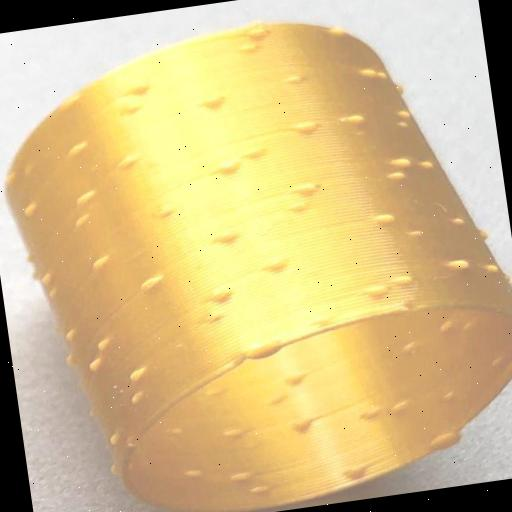blobs: (236, 139, 274, 171), (207, 154, 241, 184), (381, 394, 414, 421), (288, 179, 328, 201), (142, 269, 172, 297), (72, 180, 104, 206), (192, 89, 226, 113), (259, 254, 296, 276), (56, 90, 88, 115), (356, 281, 390, 304), (436, 252, 475, 272), (84, 252, 119, 274), (340, 460, 372, 484), (287, 409, 314, 437), (62, 141, 92, 166), (280, 368, 314, 390), (430, 428, 462, 450), (210, 226, 240, 249), (387, 108, 418, 130), (122, 364, 156, 384), (204, 286, 232, 310), (198, 382, 228, 404), (276, 69, 307, 89), (354, 62, 385, 82), (469, 260, 500, 280), (292, 118, 320, 140), (111, 153, 139, 175), (341, 109, 370, 130), (395, 336, 420, 360), (354, 403, 382, 424), (128, 78, 154, 100), (410, 156, 436, 178), (150, 202, 178, 222), (240, 482, 268, 502), (372, 208, 398, 229), (386, 152, 416, 170), (71, 210, 93, 232), (182, 461, 204, 483), (224, 424, 248, 444), (164, 422, 194, 438), (122, 391, 146, 411), (242, 27, 270, 44), (224, 469, 252, 486), (390, 270, 416, 288), (82, 355, 105, 375), (432, 318, 454, 338), (58, 328, 80, 348), (18, 198, 38, 220), (436, 388, 458, 408), (34, 268, 54, 288), (103, 428, 123, 448), (92, 336, 113, 354), (386, 168, 408, 184), (328, 24, 346, 41)
